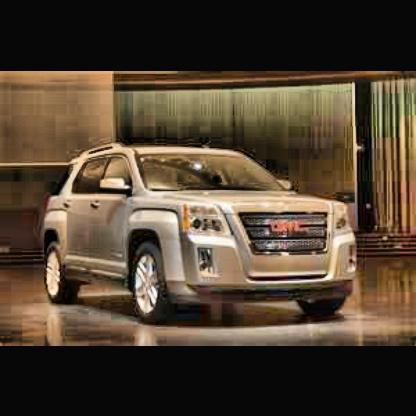GMC Terrain SUV 2012: (41, 142, 359, 330)
